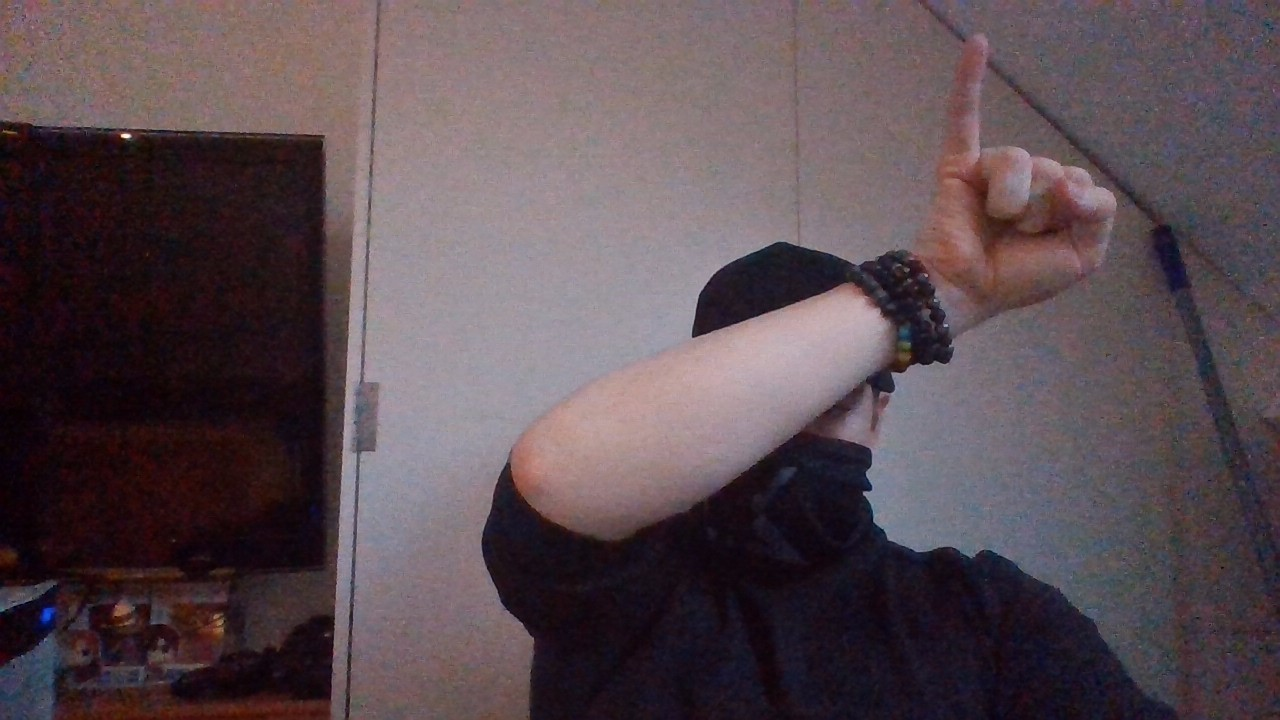I" Sign language: (926, 34, 1141, 316)
